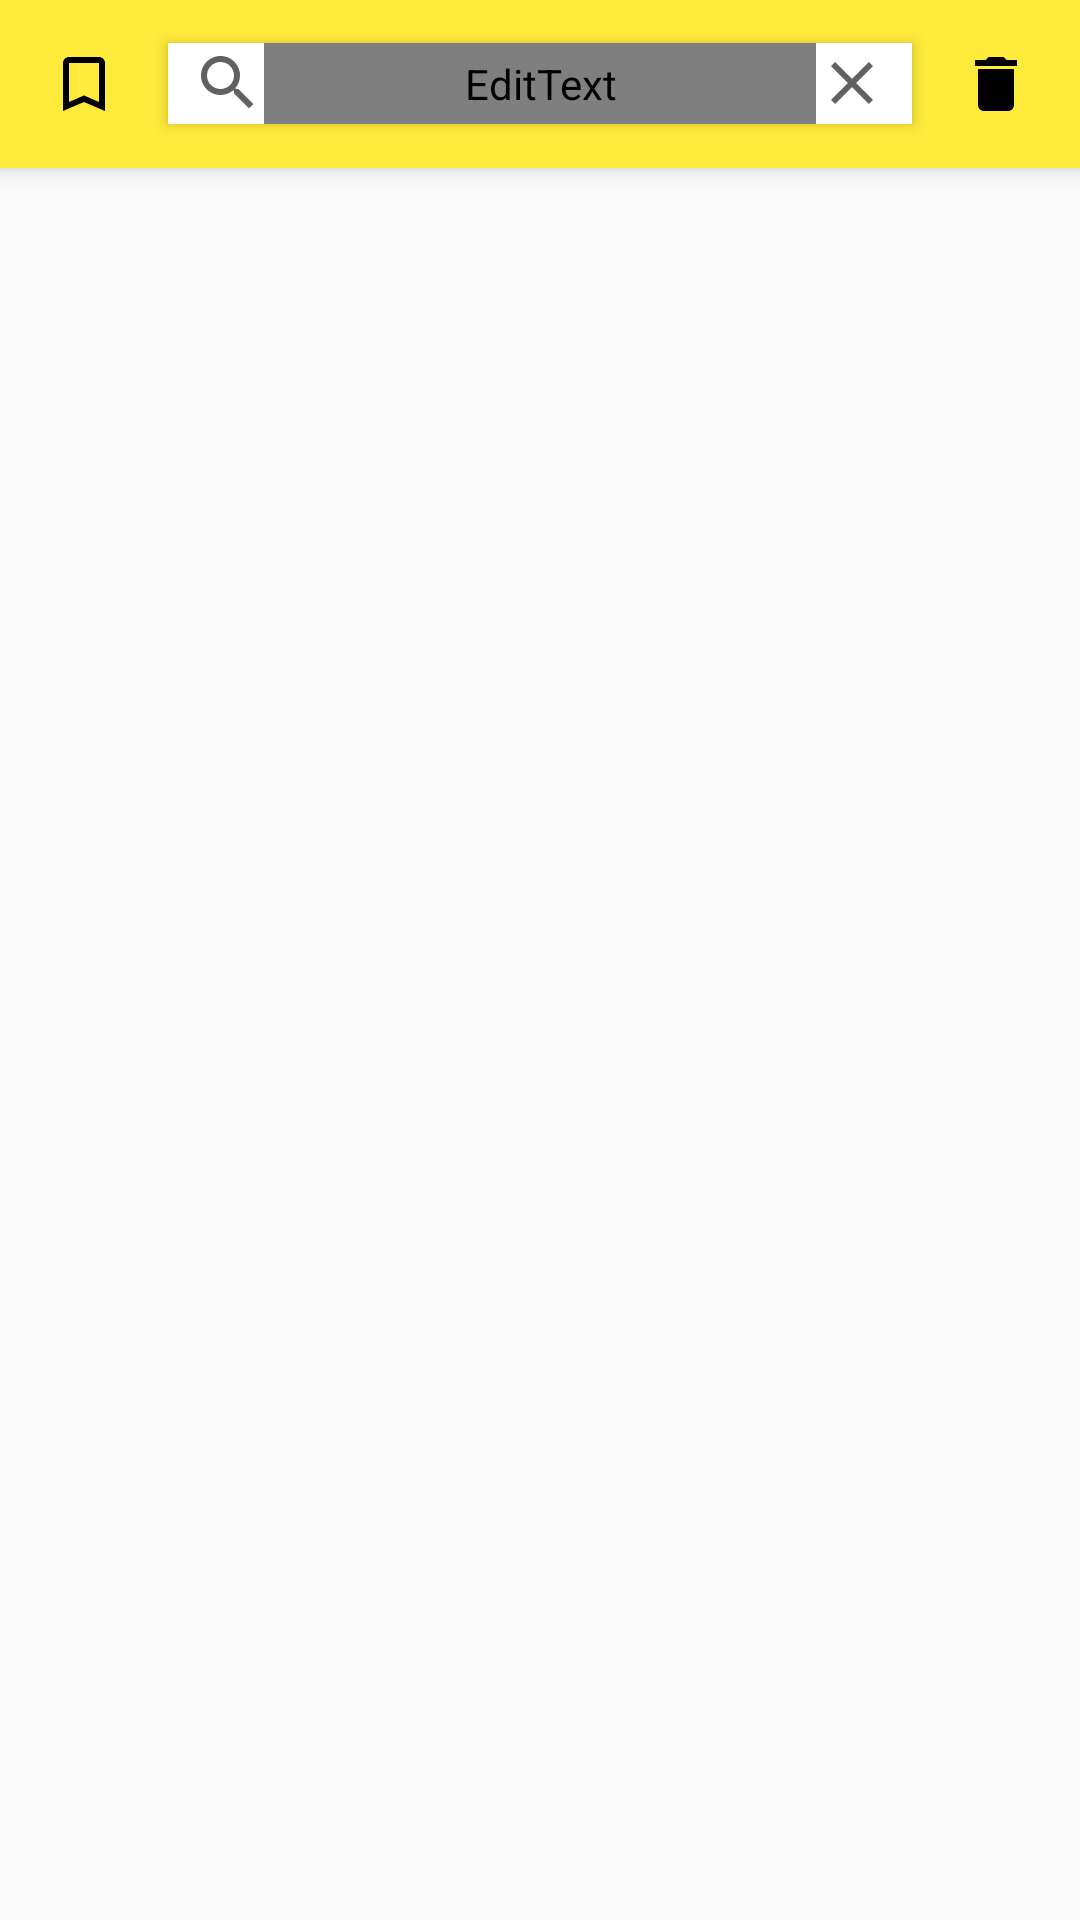

Named icons in this screenshot (1080 x 1920) and their bounding boxes, (x1=x1, y1=y1, x2=x2, y2=y2):
bookmark border: (x1=63, y1=57, x2=105, y2=111)
clear: (x1=831, y1=62, x2=873, y2=104)
delete: (x1=975, y1=57, x2=1017, y2=111)
search: (x1=201, y1=56, x2=253, y2=108)
